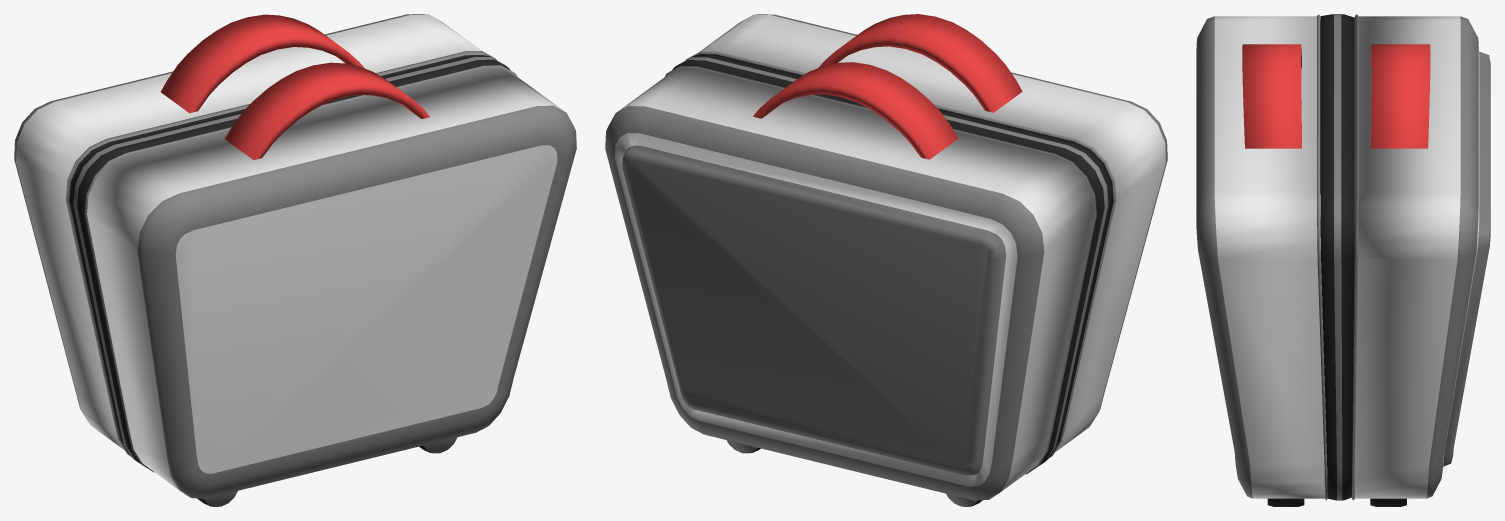
Rendered from Trolley-2.fbx.
3 views of the same model, side by side, from view 1: azimuth 30°, elevation 25°; view 2: azimuth 150°, elevation 25°; view 3: azimuth 270°, elevation 25° (orthographic).
Visible parts, largest first — view 1: Trolley-2; view 2: Trolley-2; view 3: Trolley-2.
Part boxes in pixels (bbox=[...]): Trolley-2: bbox=[14, 14, 576, 506]; Trolley-2: bbox=[605, 14, 1167, 506]; Trolley-2: bbox=[1196, 14, 1490, 506].
Size of the model in its own units: 7.99 by 7 by 4.7.
